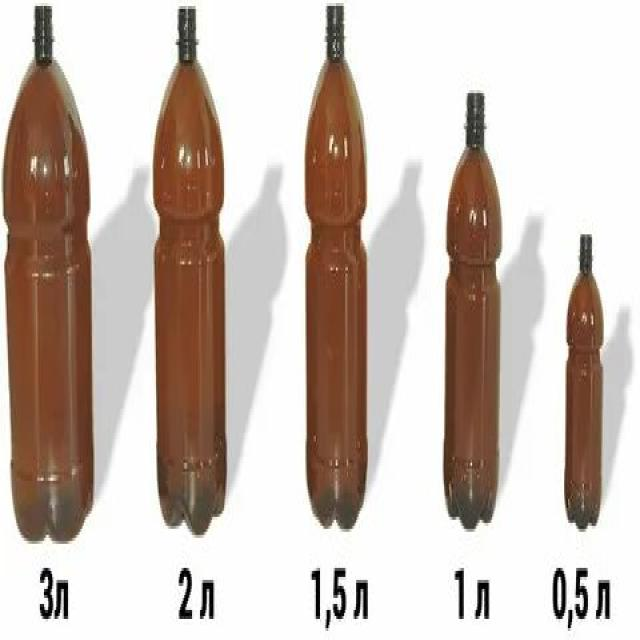brown: (2, 2, 92, 543), (152, 6, 226, 533), (304, 3, 368, 530), (445, 90, 502, 528), (566, 231, 603, 530)
